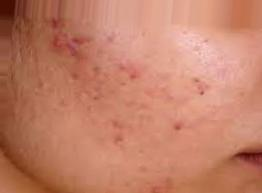Acne: (115, 84, 176, 130), (25, 53, 68, 106), (68, 70, 111, 110), (128, 163, 176, 193), (178, 32, 218, 68), (47, 37, 97, 64), (108, 56, 152, 84), (104, 123, 142, 152), (169, 116, 198, 146), (154, 71, 180, 102), (190, 71, 214, 101), (99, 26, 124, 48), (50, 16, 66, 32)
